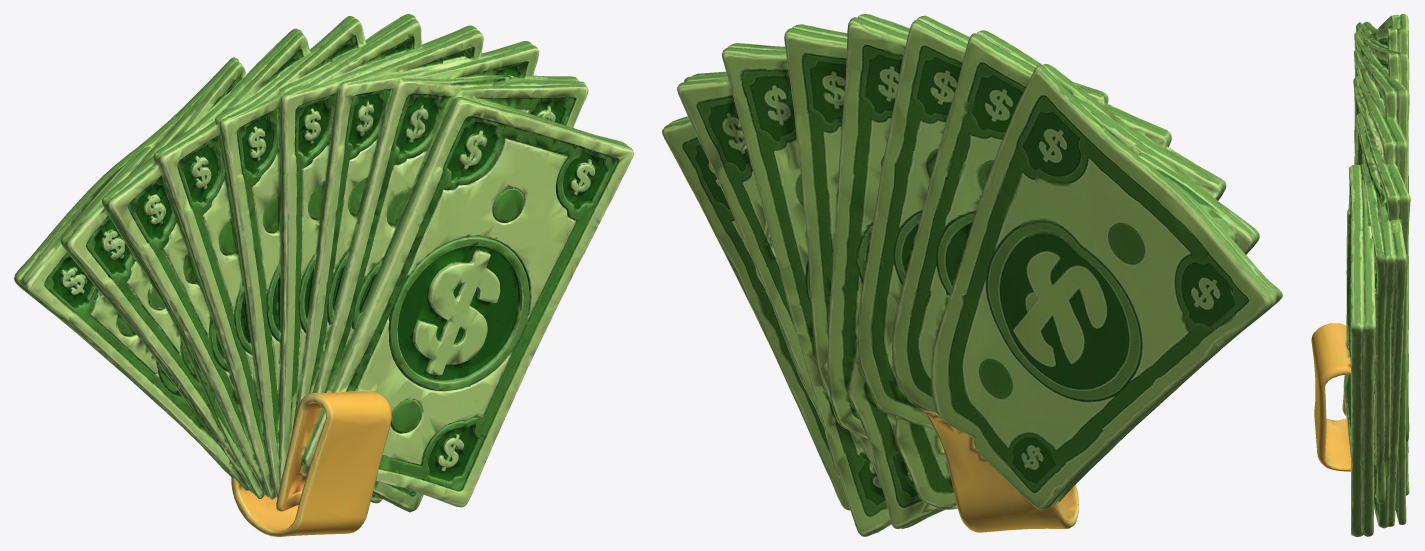
Rendered from cash_fan.glb.
The picture shows the model from 3 angles, left to right: view 1: azimuth 30°, elevation 25°; view 2: azimuth 150°, elevation 25°; view 3: azimuth 270°, elevation 25°; orthographic projection. The views are drawn at different scales.
Bounding box in the file's own units: 1.9 × 1.54 × 0.3043.
Materials: 1 (1 with a texture image).
